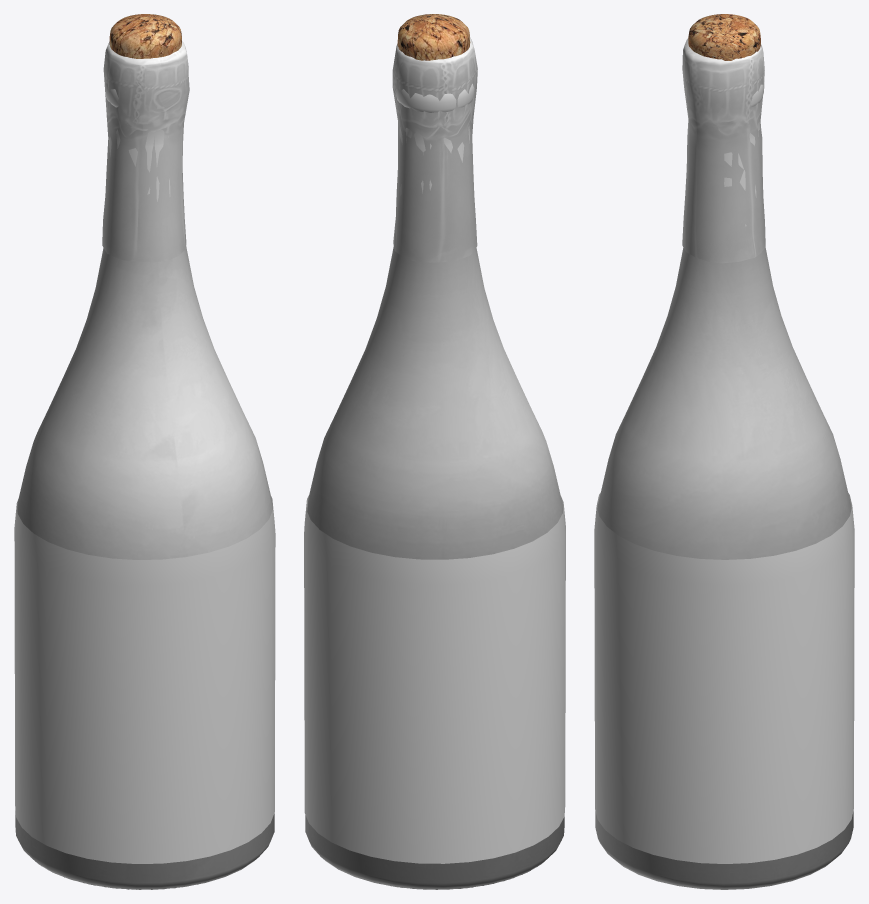
Rendered from Agape_150cl.glb.
3 views of the same model, side by side, from view 1: azimuth 30°, elevation 25°; view 2: azimuth 150°, elevation 25°; view 3: azimuth 270°, elevation 25° (orthographic).
Visible parts, largest first — view 1: label, bottiglia, champagneAluminium, sughero, longWax, longAluminium; view 2: label, bottiglia, champagneAluminium, sughero, longWax; view 3: label, bottiglia, champagneAluminium, sughero.
Boxes of the visible parts, bbox=[...] form: label: bbox=[14, 496, 275, 863]; bottiglia: bbox=[15, 246, 274, 889]; champagneAluminium: bbox=[102, 41, 189, 262]; sughero: bbox=[109, 14, 181, 58]; longWax: bbox=[105, 83, 168, 201]; longAluminium: bbox=[109, 137, 170, 201]; label: bbox=[304, 495, 565, 863]; bottiglia: bbox=[305, 247, 564, 889]; champagneAluminium: bbox=[392, 37, 477, 262]; sughero: bbox=[397, 14, 470, 60]; longWax: bbox=[396, 83, 474, 194]; label: bbox=[594, 493, 854, 863]; bottiglia: bbox=[595, 247, 853, 889]; champagneAluminium: bbox=[682, 38, 765, 263]; sughero: bbox=[688, 14, 760, 60].
Size of the model in its own units: 0.1091 by 0.3753 by 0.108.
8 materials, 7 textured.
